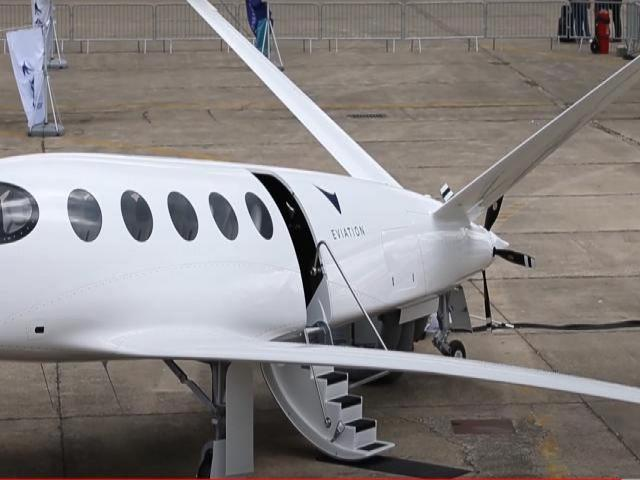iha: (1, 1, 640, 467)
